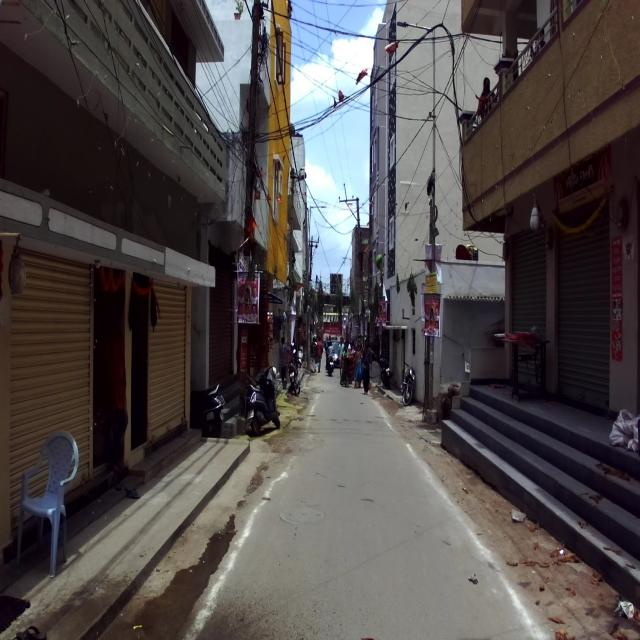scooter: (243, 364, 280, 438), (188, 375, 225, 438)
